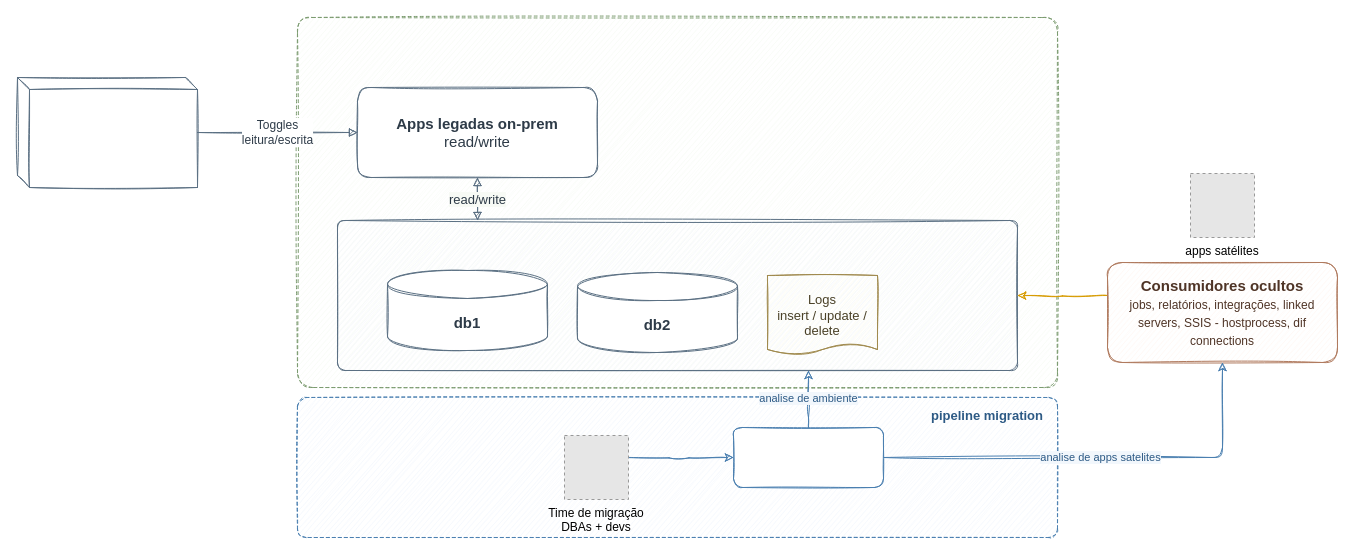
Some shapes in this 1355 by 555 pixel diagram are drawn without their labels. Grey dashed boxes stand in for pictures. The shapes that lost their labels are listed below. From the top down, each one's box as (x1, y1, x2, y2) in pixels, then its label:
(16, 76, 198, 188): Portal Manager toggles read-cloud / write-cloud
(296, 16, 1058, 388): Itaú datacenter (on-prem)
(336, 220, 1018, 370): SGNPRD · SQL Server 2027 (schema dbo)
(732, 426, 884, 488): schema-forge
